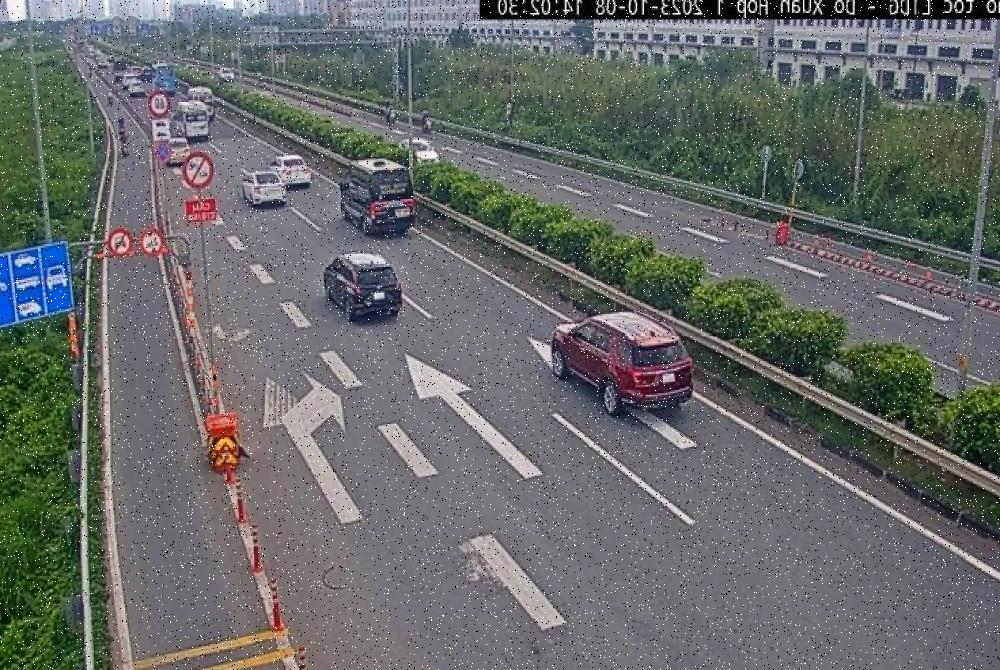car: (550, 313, 693, 418), (339, 159, 417, 233), (322, 250, 403, 320), (239, 168, 286, 208), (271, 153, 312, 190)
